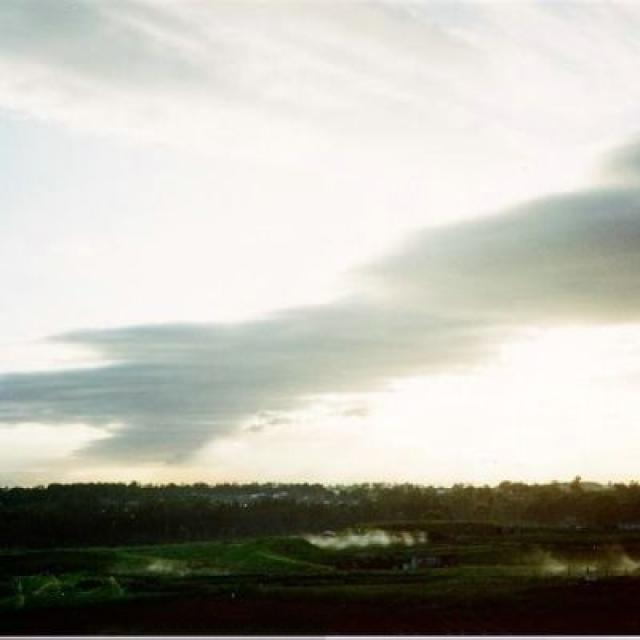Sc: (1, 84, 640, 436)
